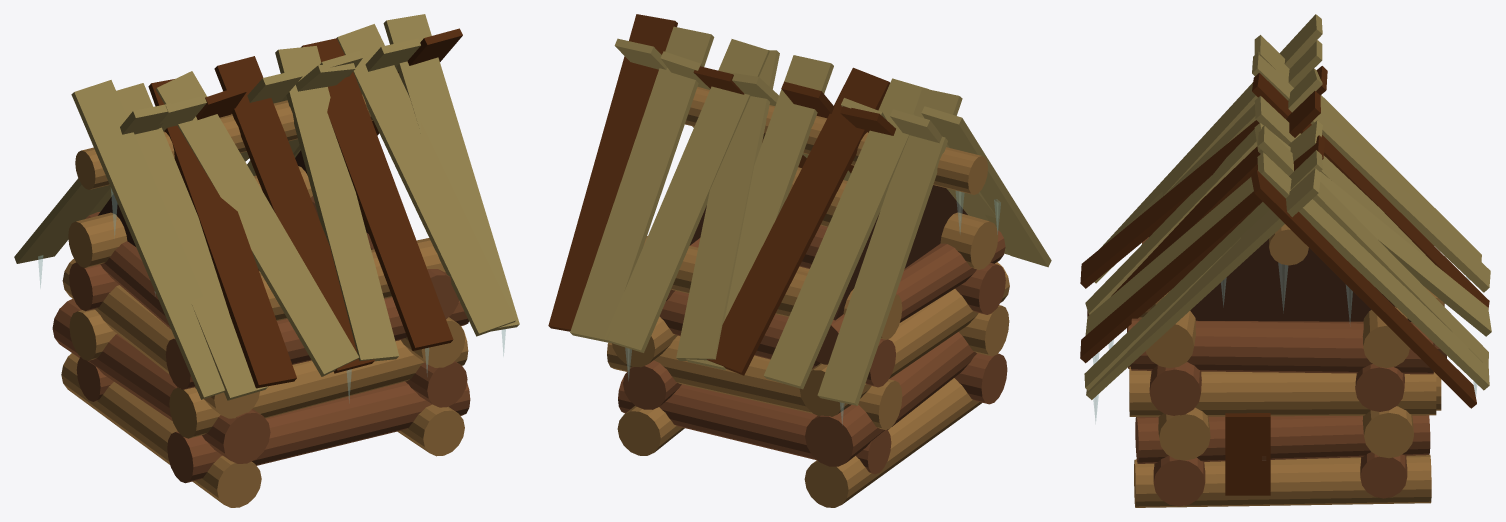
The model's file is house.fbx.
The picture shows the model from 3 angles, left to right: view 1: azimuth 30°, elevation 25°; view 2: azimuth 150°, elevation 25°; view 3: azimuth 270°, elevation 25°; orthographic projection.
Parts seen in each view (by area): view 1: Cube.012, Cube.017, Cube.003, Cube.001, Cube, Cube.004, Cube.002, Cylinder, Cube.016, Cube.013, Cylinder.001, Cylinder.009 (+22 smaller); view 2: Cube.006, Cube.009, Cube.014, Cube.005, Cube.018, Cube.008, Cube.015, Cube.007, Cylinder.004, Cylinder.009, Cylinder.008, Cylinder.005 (+21 smaller); view 3: Cylinder.015, Cylinder.014, Cube.010, Cylinder.012, Cylinder.013, Cube.014, Cube.015, Cube.005, Cube.013, Cube, Cube.008, Cube.009 (+20 smaller).
Boxes of the visible parts, x1=… form: Cube.012: x1=336, y1=24, x2=515, y2=336; Cube.017: x1=71, y1=80, x2=225, y2=399; Cube.003: x1=155, y1=71, x2=359, y2=376; Cube.001: x1=275, y1=46, x2=399, y2=361; Cube: x1=301, y1=38, x2=453, y2=350; Cube.004: x1=148, y1=79, x2=296, y2=388; Cube.002: x1=214, y1=56, x2=374, y2=373; Cylinder: x1=167, y1=381, x2=470, y2=483; Cube.016: x1=116, y1=83, x2=267, y2=400; Cube.013: x1=383, y1=14, x2=519, y2=331; Cylinder.001: x1=169, y1=326, x2=468, y2=438; Cylinder.009: x1=52, y1=299, x2=270, y2=463; Cube.006: x1=707, y1=67, x2=889, y2=375; Cube.009: x1=604, y1=39, x2=769, y2=352; Cube.014: x1=570, y1=26, x2=714, y2=342; Cube.005: x1=763, y1=78, x2=928, y2=389; Cube.018: x1=817, y1=88, x2=962, y2=405; Cube.008: x1=676, y1=50, x2=779, y2=360; Cube.015: x1=548, y1=14, x2=677, y2=331; Cube.007: x1=686, y1=55, x2=833, y2=370; Cylinder.004: x1=618, y1=372, x2=891, y2=474; Cylinder.009: x1=805, y1=332, x2=976, y2=466; Cylinder.008: x1=804, y1=378, x2=982, y2=507; Cylinder.005: x1=607, y1=335, x2=902, y2=429; Cylinder.015: x1=1131, y1=318, x2=1434, y2=374; Cylinder.014: x1=1129, y1=366, x2=1436, y2=416; Cube.010: x1=1190, y1=239, x2=1411, y2=321; Cylinder.012: x1=1134, y1=454, x2=1431, y2=507; Cylinder.013: x1=1135, y1=415, x2=1430, y2=463; Cube.014: x1=1257, y1=152, x2=1489, y2=390; Cube.015: x1=1251, y1=170, x2=1476, y2=408; Cube.005: x1=1252, y1=51, x2=1490, y2=292; Cube.013: x1=1086, y1=168, x2=1320, y2=399; Cube: x1=1080, y1=135, x2=1324, y2=363; Cube.008: x1=1254, y1=123, x2=1491, y2=336; Cube.009: x1=1258, y1=125, x2=1488, y2=367.
Bounding box in the file's own units: 922 × 901 × 928.
